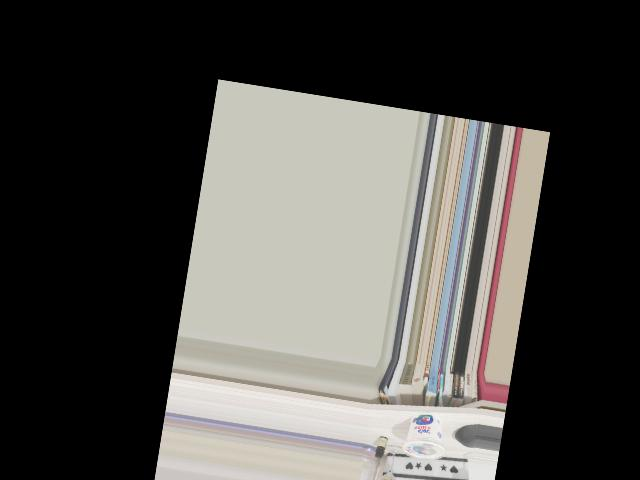cotage: (403, 409, 447, 463)
